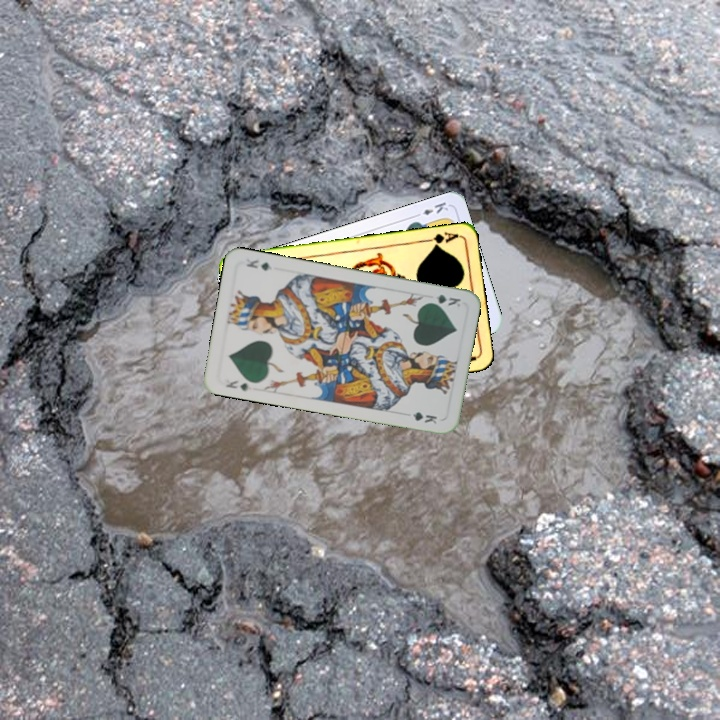EK: (410, 198, 451, 220)
GA: (420, 228, 461, 250)
GK: (423, 290, 463, 309), (222, 376, 251, 394)
